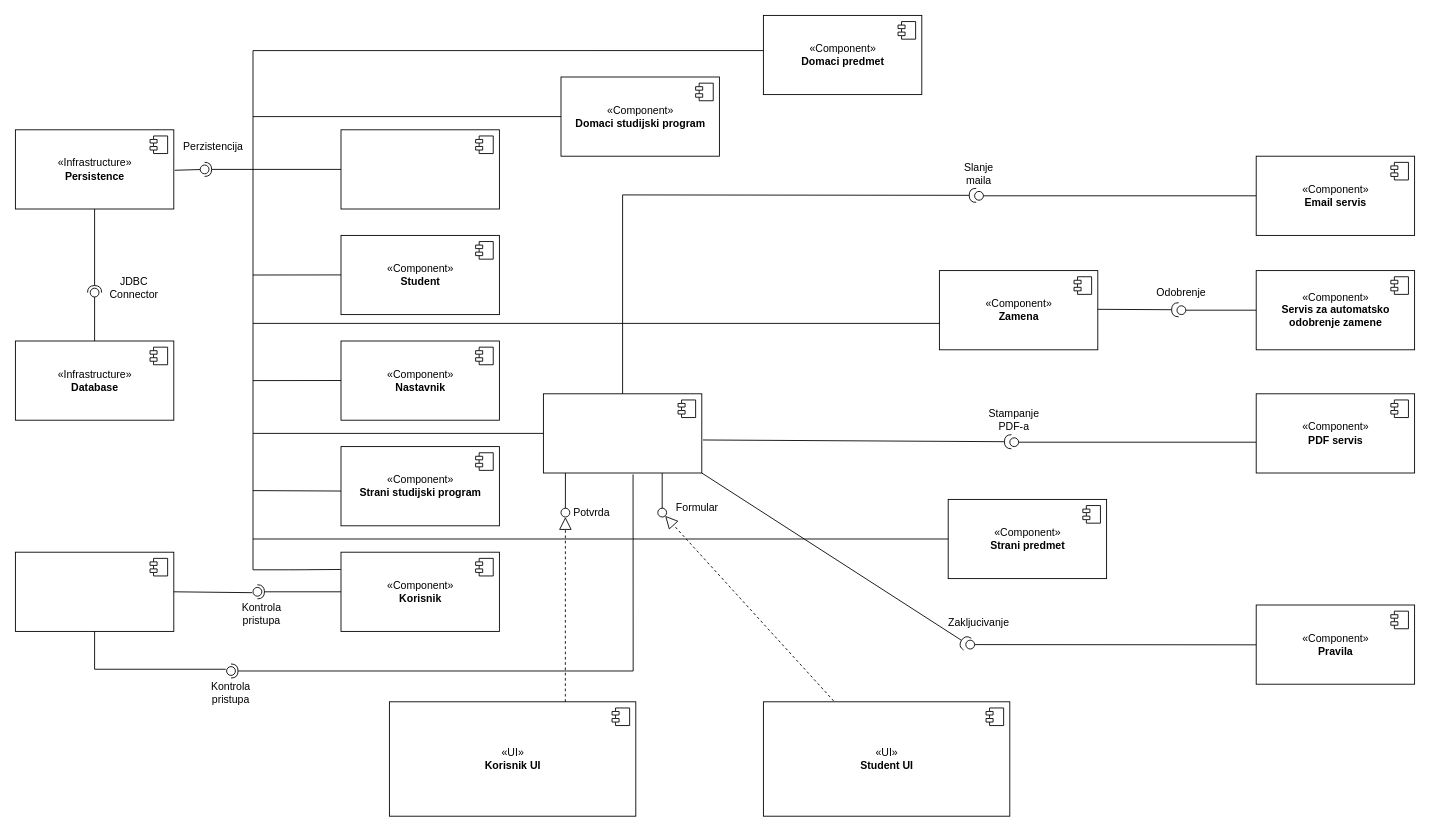
Image size: 1430x832. Some labels were removed from this diagram. Here are the shapes that lost their labels. From the top down, the centre of each, then its label:
the point at 419,169: «Component» Departman
the point at 622,433: «Component» Formular
the point at 94,591: «Infrastructure» Security
